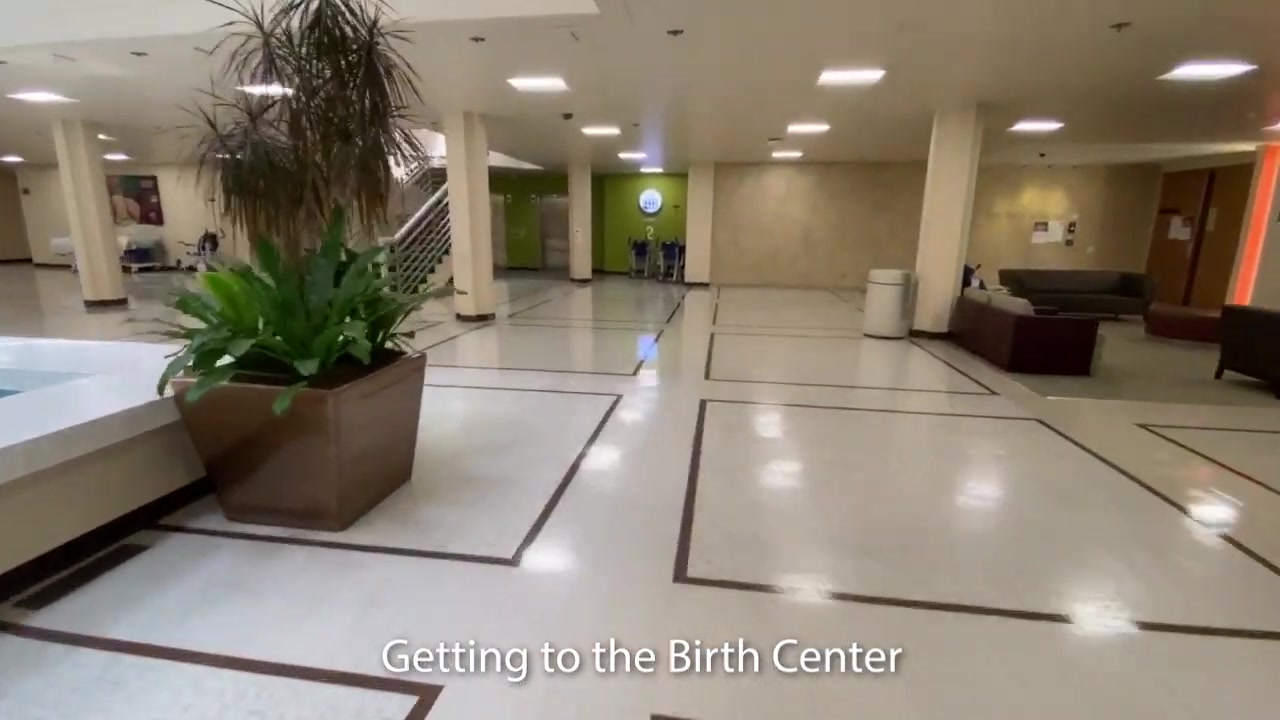sofa: (946, 287, 1100, 377), (997, 268, 1152, 317), (1213, 303, 1280, 400)
table: (1148, 298, 1222, 343)
waste_bin: (862, 267, 920, 341)
